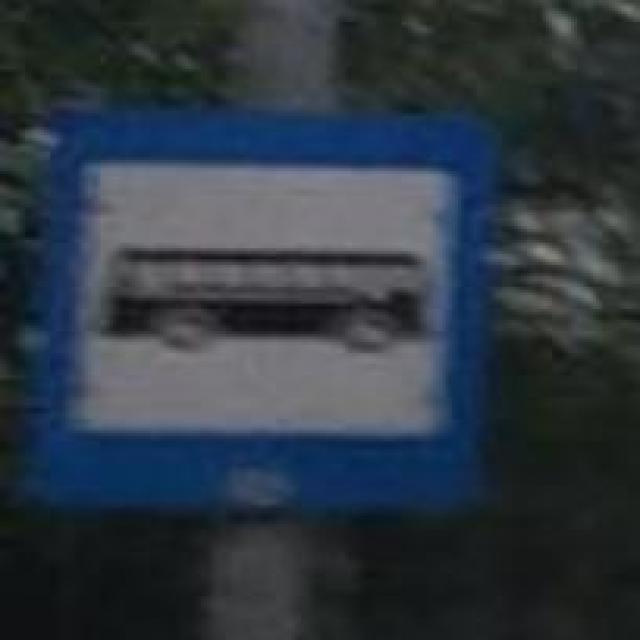traffic sign: (38, 108, 487, 522)
